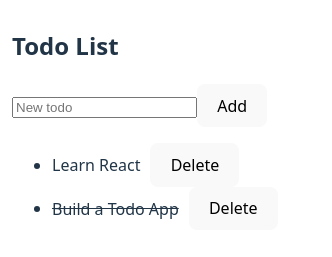
Scenario: TodoList Component › adds a new todo
Type "Write tests" into the field with placeholder "New todo" at (104, 107), box [12, 97, 197, 118]
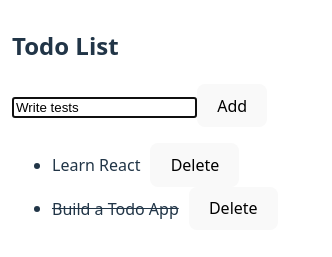
Click the button "Add" at (232, 106), box [197, 84, 267, 127]
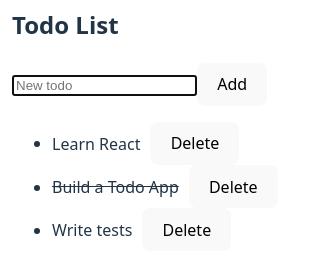
Check: the list item "Write tests" is shown, box [52, 219, 132, 241]
